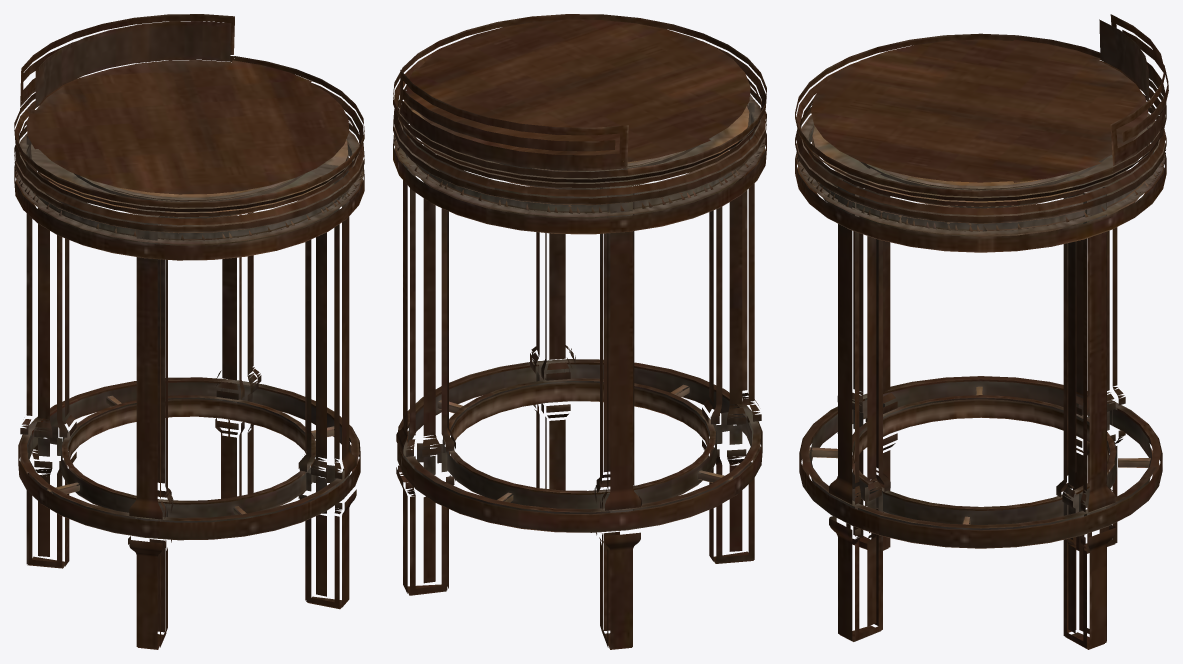
The model's file is ph_bar_chair_round_01.glb.
3 views of the same model, side by side, from view 1: azimuth 30°, elevation 25°; view 2: azimuth 150°, elevation 25°; view 3: azimuth 270°, elevation 25° (orthographic). The views are drawn at different scales.
Parts seen in each view (by area): view 1: bar_chair_round_01; view 2: bar_chair_round_01; view 3: bar_chair_round_01.
Part boxes in pixels (x1,y1,x2,y2): bar_chair_round_01: (14,14,364,649); bar_chair_round_01: (393,14,766,649); bar_chair_round_01: (795,14,1168,649).
Size of the model in its own units: 0.4831 by 0.7493 by 0.486.
Materials: 1 (1 with a texture image).
